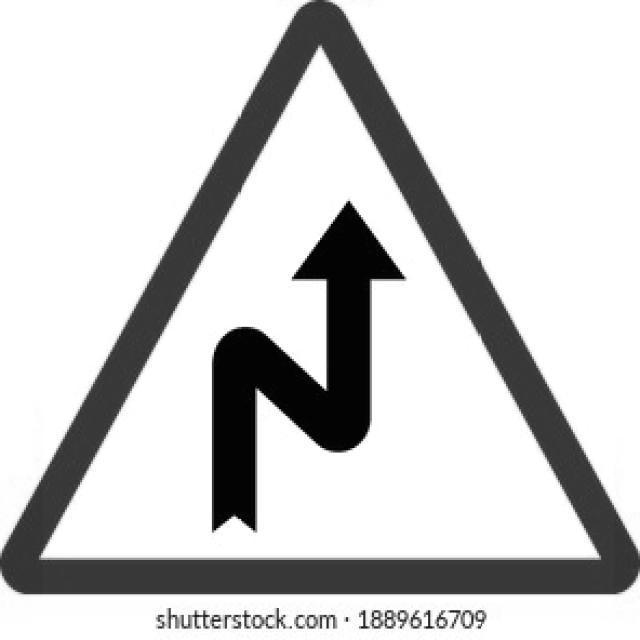right reverse bend: (18, 19, 615, 591)
